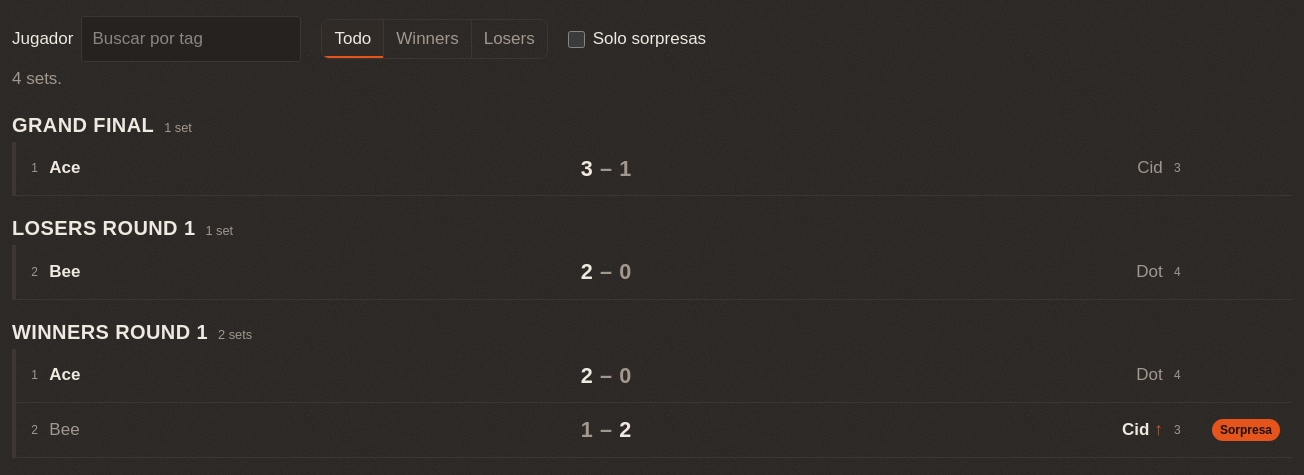
Test: filters by player, side and upsets and opens the games
Check: the message reads "4 sets.", box x1=12 y1=69 x2=62 y2=88
Check: the text "Sorpresa" is shown, box x1=1212 y1=418 x2=1280 y2=441
Type "cid" into the search field with placeholder "Buscar por tag" at x=191, y=39, box x1=81 y1=16 x2=301 y2=62
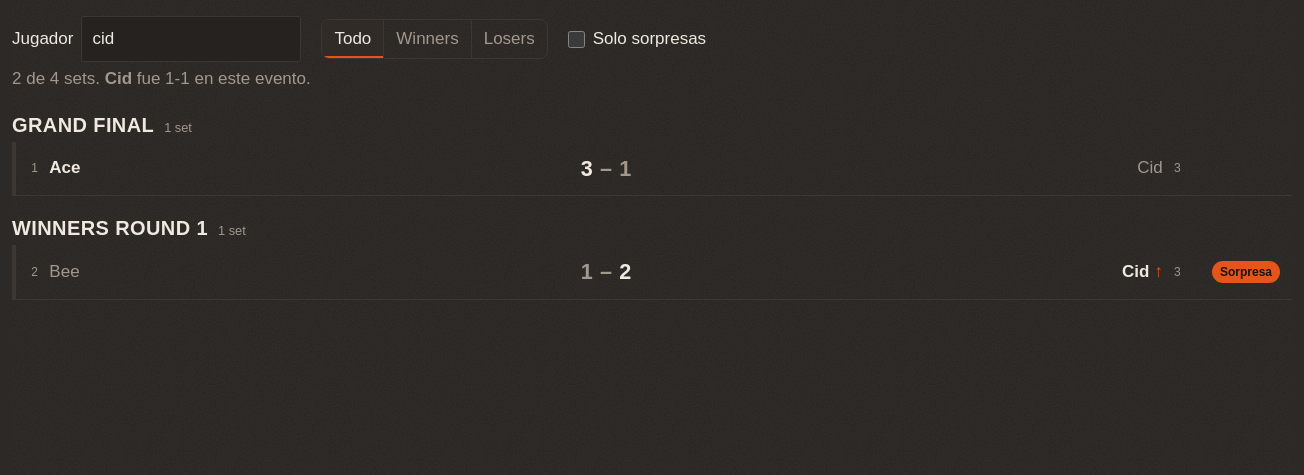
Check: the message shows "2 de 4 sets.", box x1=12 y1=69 x2=100 y2=88
Check: the message shows "Cid fue 1-1", box x1=12 y1=69 x2=311 y2=88
Clear the search field with placeholder "Buscar por tag" at x=191, y=39, box x1=81 y1=16 x2=301 y2=62
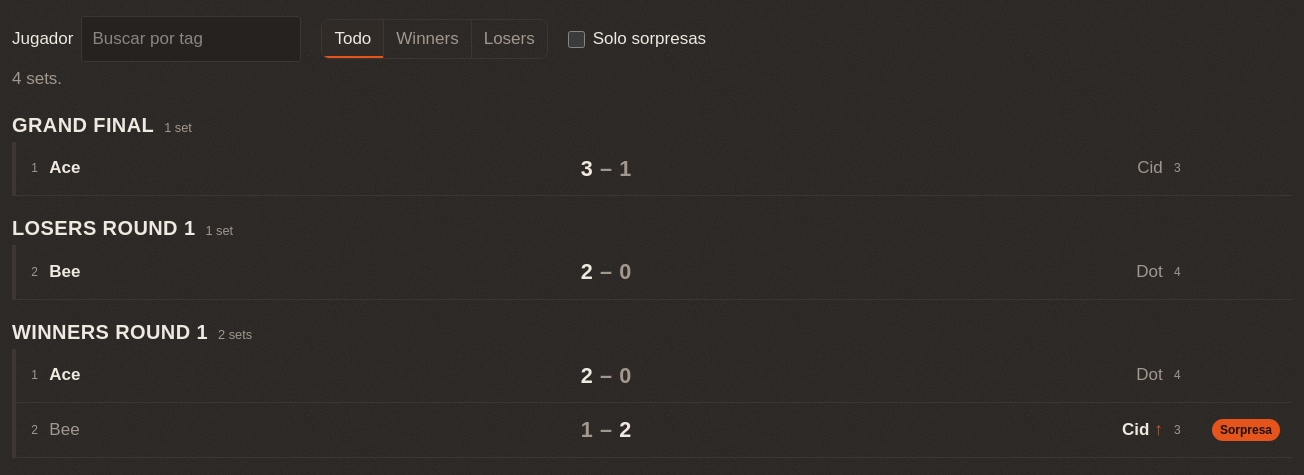
Click the button "Losers" at x=509, y=39, box x1=471 y1=20 x2=547 y2=58
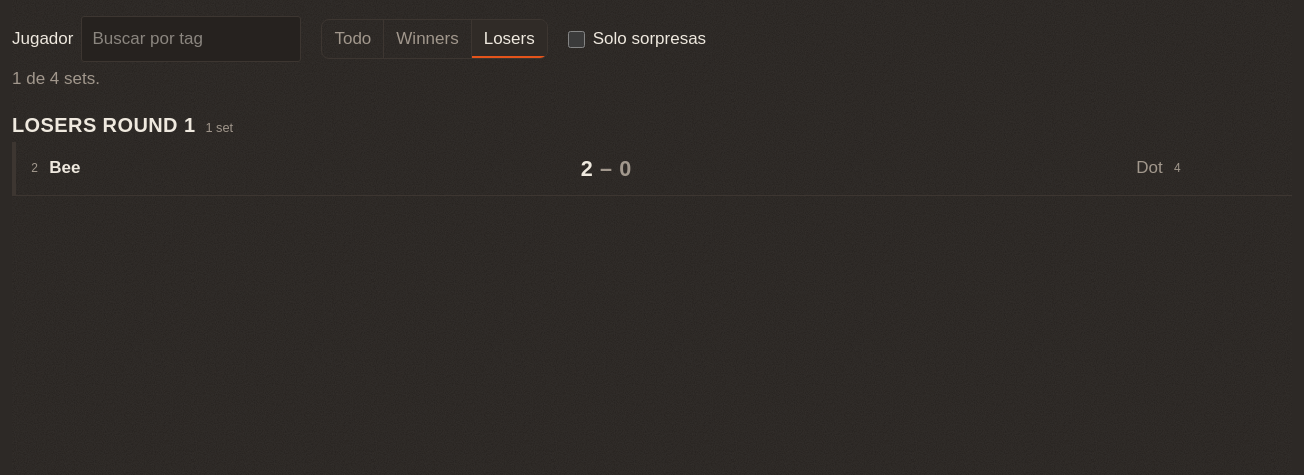
Check: the message reads "1 de 4 sets.", box x1=12 y1=69 x2=100 y2=88
Click the button "Todo" at x=353, y=39, box x1=322 y1=20 x2=383 y2=58
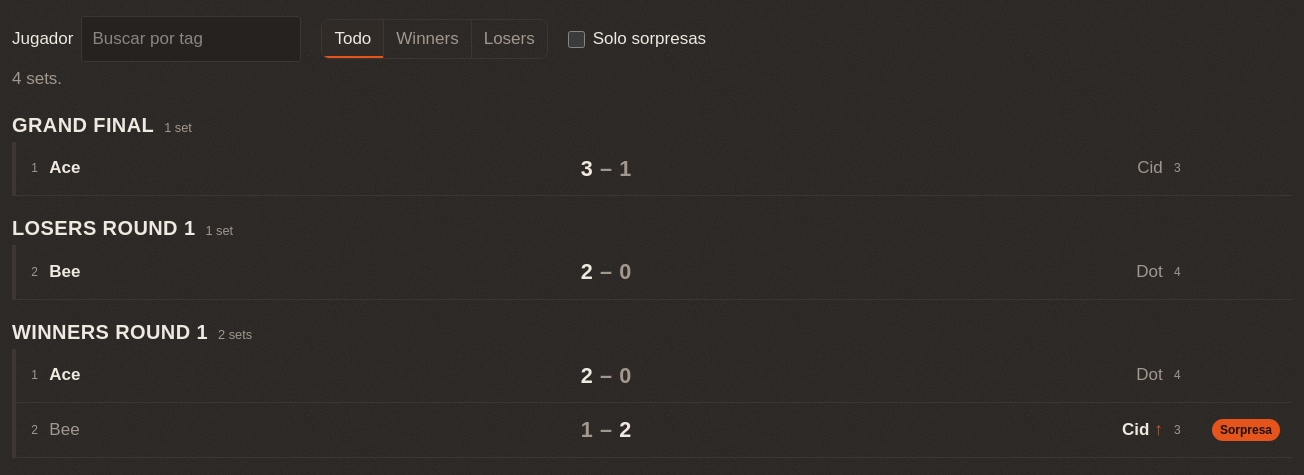
Click the checkbox labelled "Solo sorpresas" at x=576, y=39, box x1=568 y1=31 x2=585 y2=48
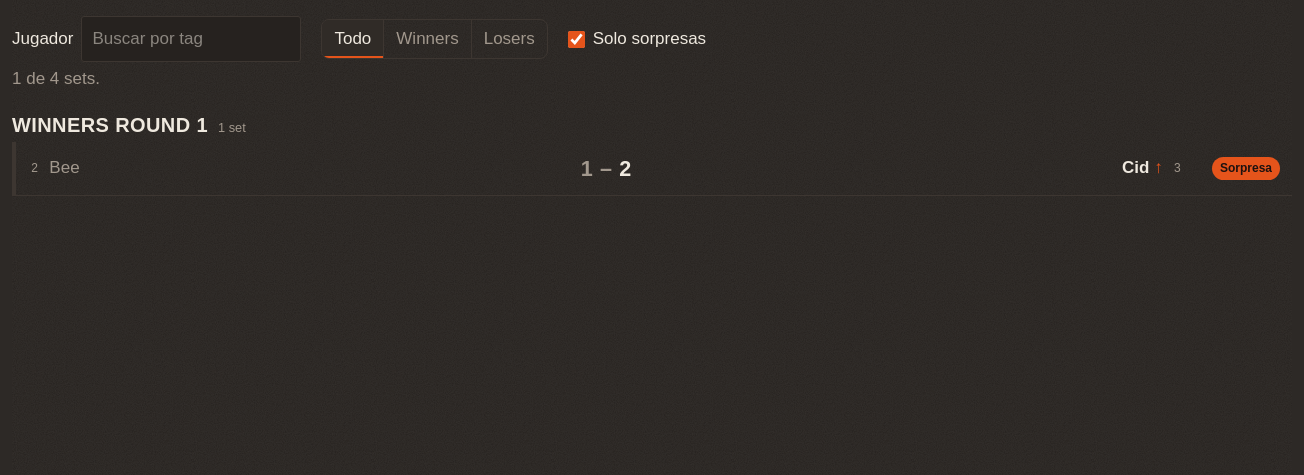
Check: the message reads "1 de 4 sets.", box x1=12 y1=69 x2=100 y2=88
Click the button with aria-label "Bee 1, Cid 2" at x=64, y=168, box x1=16 y1=142 x2=1292 y2=195
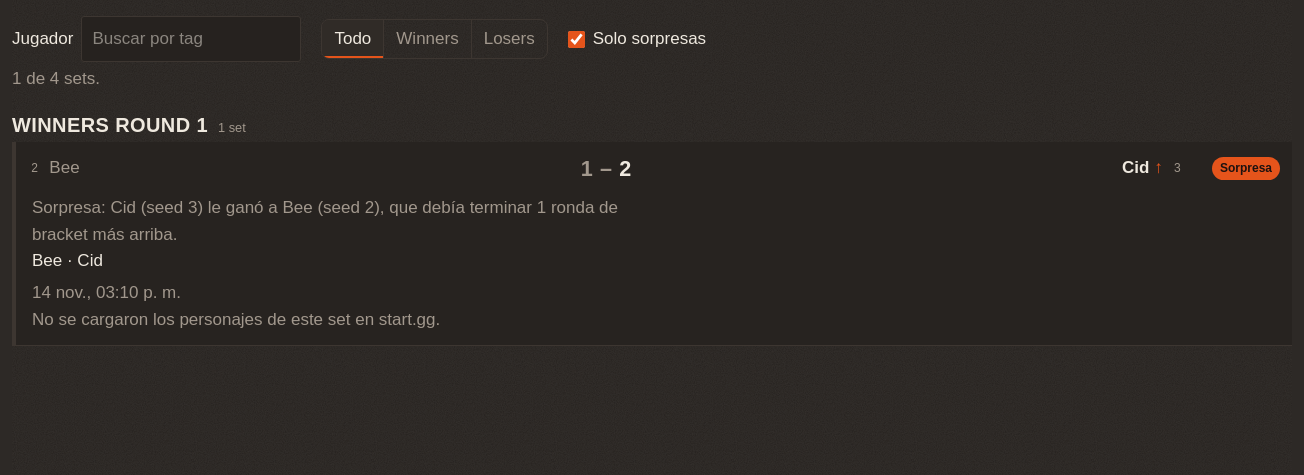
Check: the text "Cid (seed 3) le ganó a Bee" is shown, box x1=32 y1=195 x2=675 y2=248
